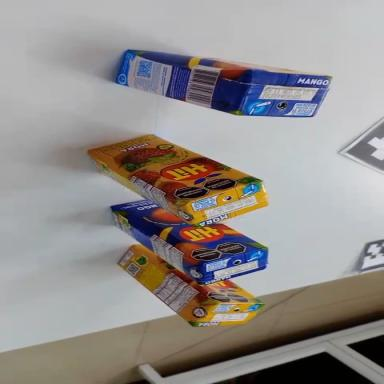HIT-MANGO: (99, 174, 274, 307), (113, 43, 332, 128)
HIT-MORA: (77, 114, 275, 249), (112, 222, 263, 352)
cara_F: (82, 112, 261, 229), (107, 172, 268, 287), (135, 224, 263, 325)
